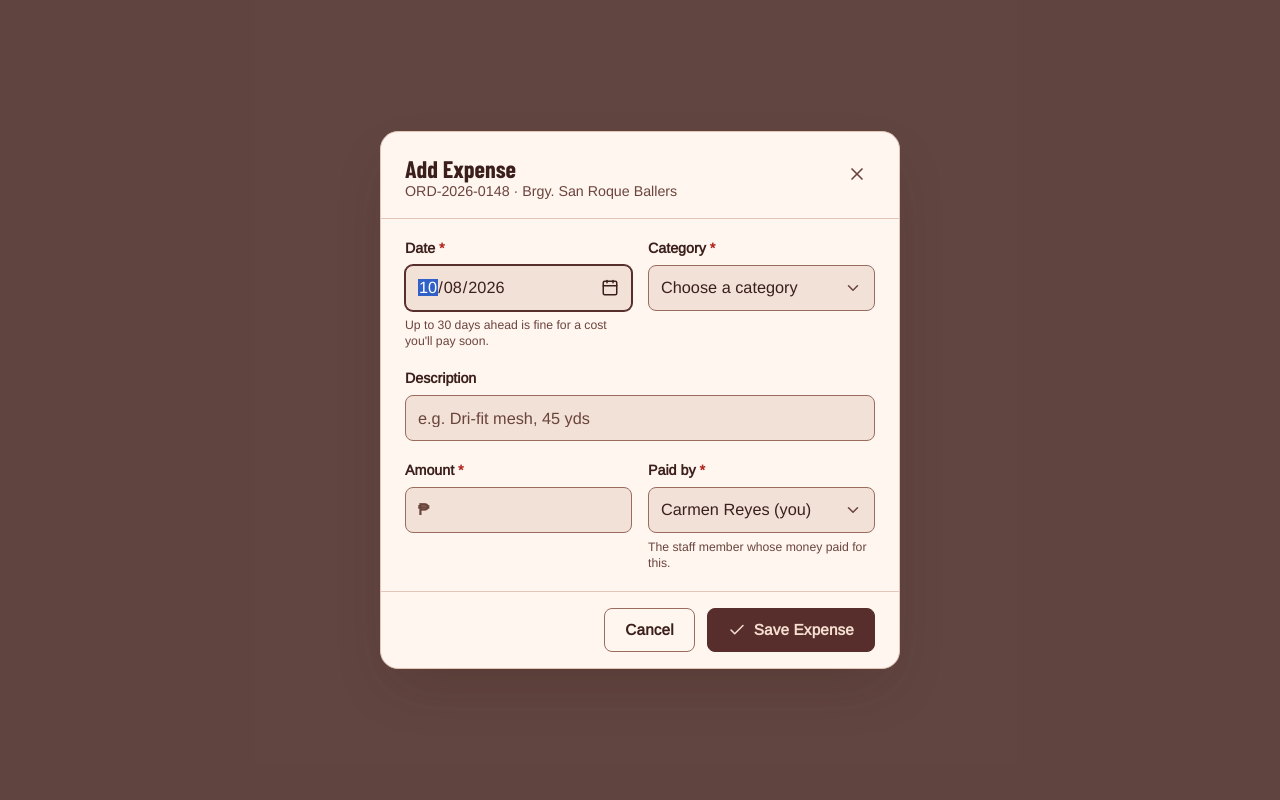
Scenario: add mode checks before any request (OR-3) › shows the server wording under an amount of 0 and sends nothing
The width and height of the screenshot is (1280, 800).
Select "Fabric" in the dropdown labelled "Category *" at (762, 288), box left=649, top=266, right=874, bottom=310
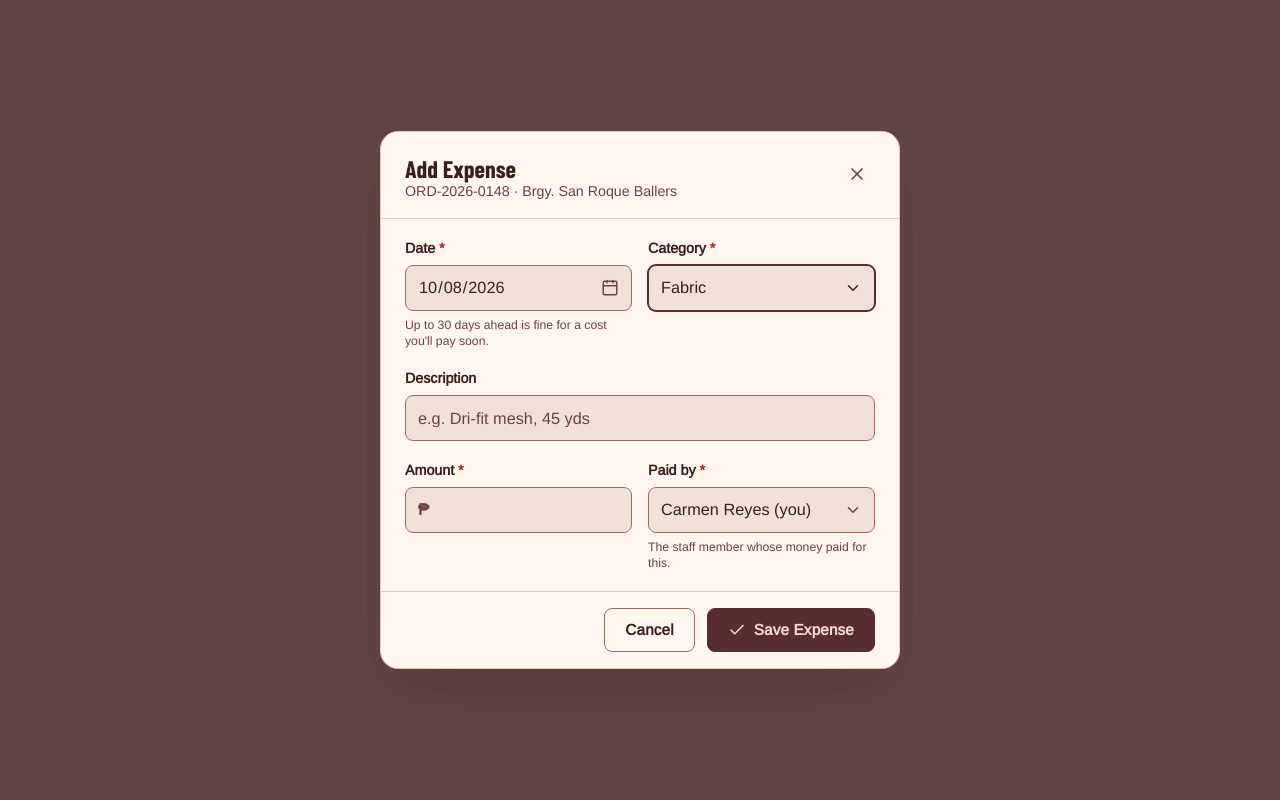
Type "0" into the field labelled "Amount *" at (530, 510), box left=429, top=488, right=631, bottom=532
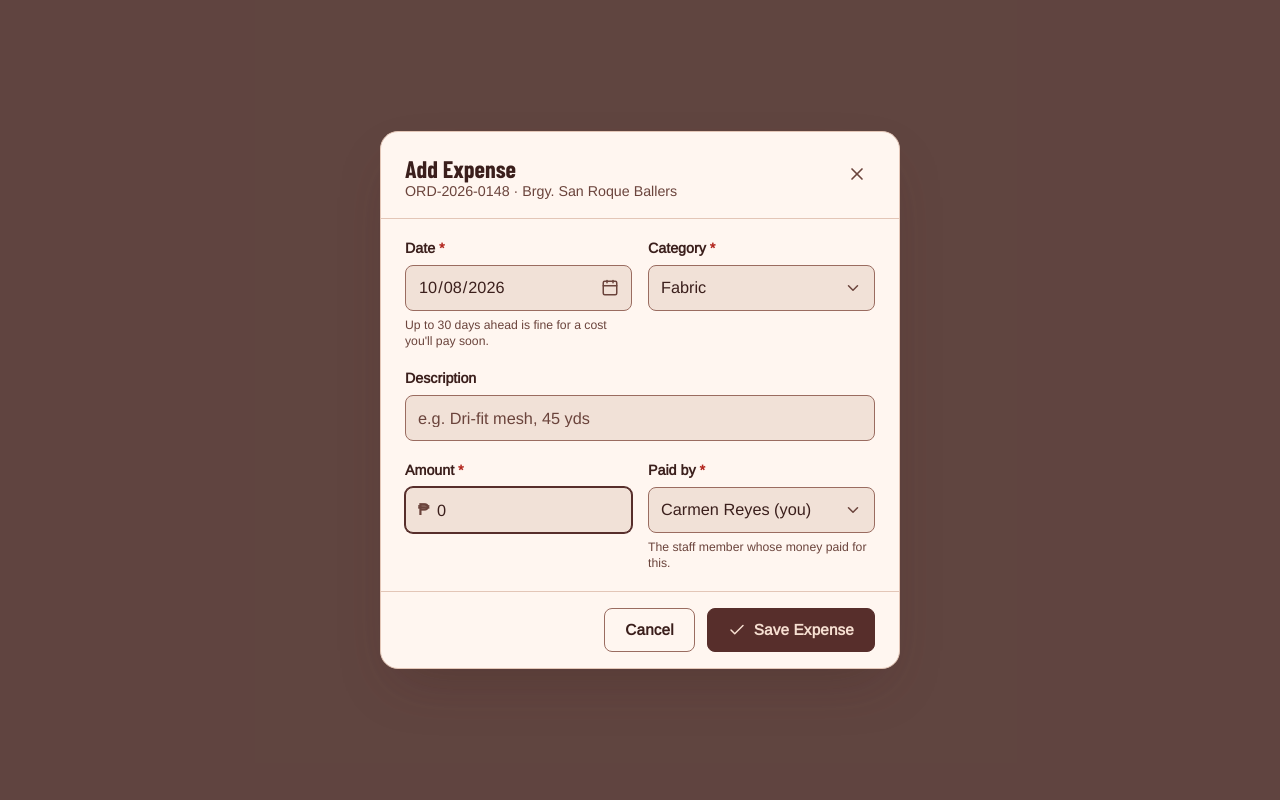
Click the button "Save Expense" at (791, 630), box left=707, top=608, right=875, bottom=652
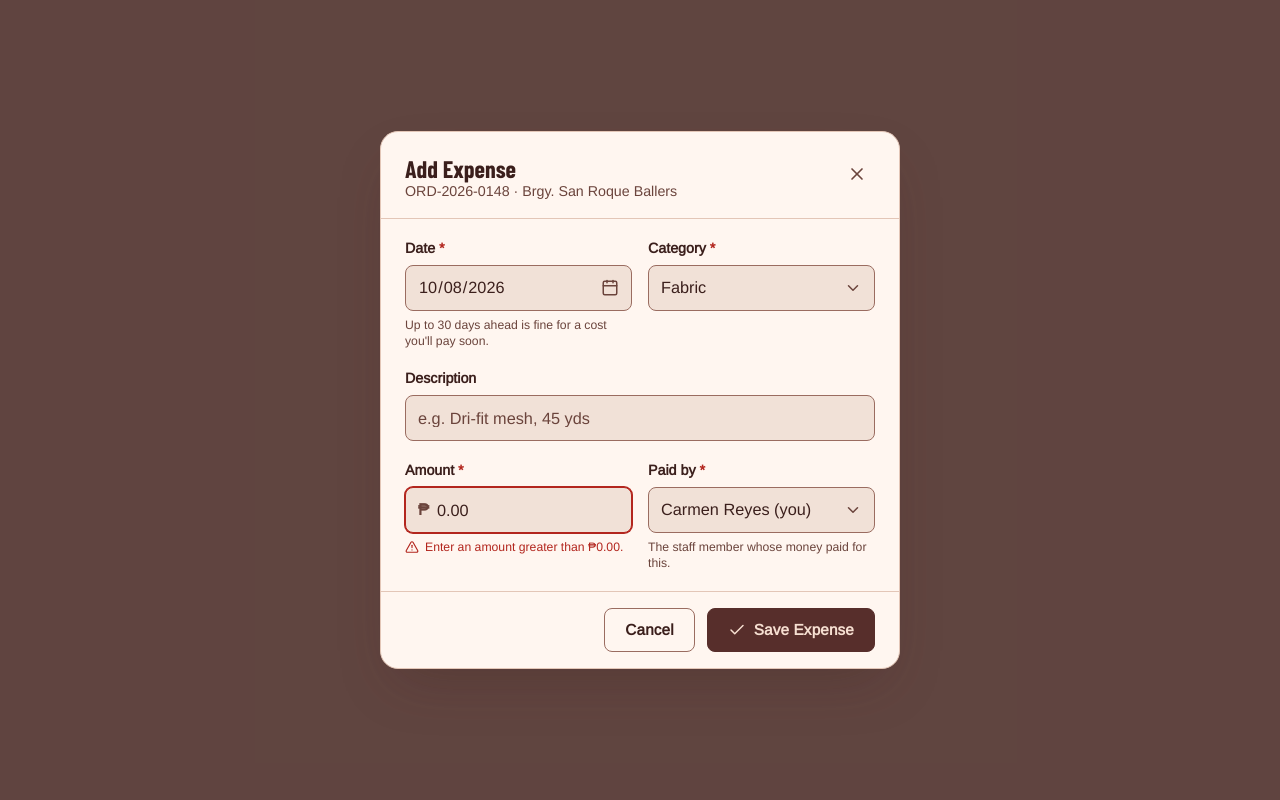
Check: the text "Enter an amount greater than ₱0.00." is shown, box left=405, top=539, right=632, bottom=555
